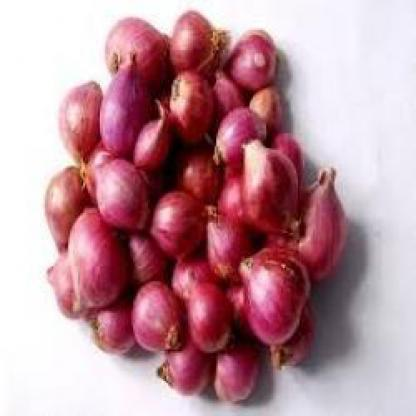onion: (237, 244, 323, 350), (86, 149, 160, 242), (133, 275, 190, 355)
